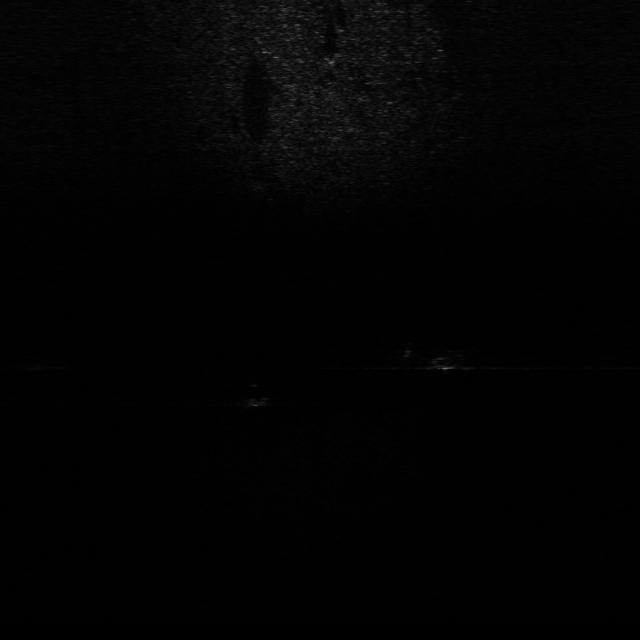ball: (233, 377, 274, 410)
human body: (381, 341, 473, 376)
